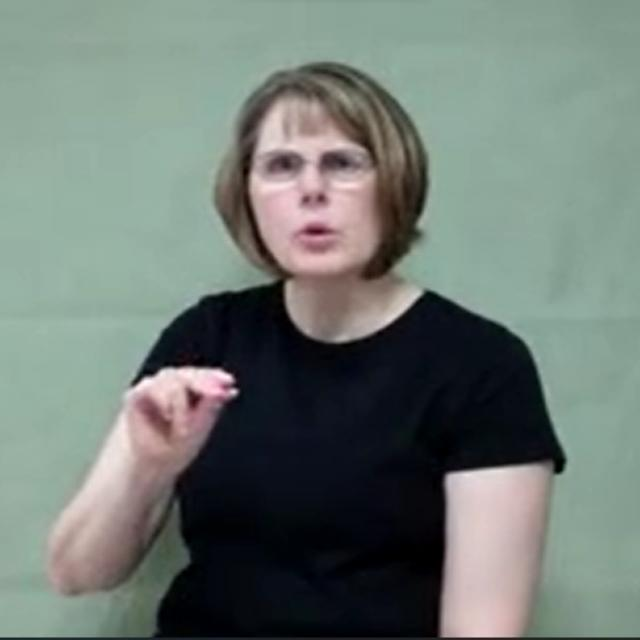no: (125, 366, 240, 466)
